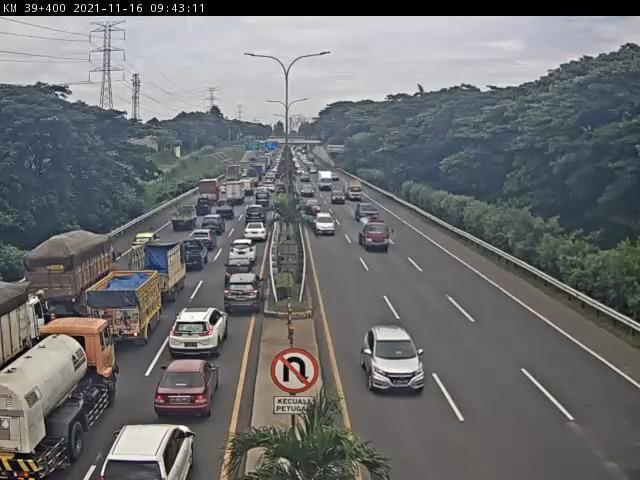car: (99, 425, 195, 480), (362, 327, 425, 395), (157, 359, 221, 419), (172, 308, 230, 358), (227, 275, 268, 316), (228, 261, 255, 287), (129, 237, 155, 259), (230, 242, 256, 264), (314, 214, 337, 236), (242, 210, 266, 229), (245, 224, 270, 242), (356, 204, 379, 223), (200, 217, 224, 235), (192, 232, 215, 250), (194, 200, 213, 219), (215, 207, 235, 224), (253, 194, 270, 210), (305, 198, 321, 214), (301, 185, 315, 198), (331, 191, 345, 204), (258, 190, 272, 201), (263, 184, 276, 195), (301, 173, 311, 182)
truck: (1, 317, 117, 480), (20, 233, 118, 315), (90, 271, 165, 348), (1, 284, 45, 374), (128, 244, 187, 304), (360, 217, 392, 251), (183, 240, 209, 272), (168, 209, 198, 234), (198, 179, 220, 207), (222, 185, 244, 210), (345, 181, 363, 202), (227, 164, 245, 183), (240, 179, 256, 197), (318, 172, 333, 191)
